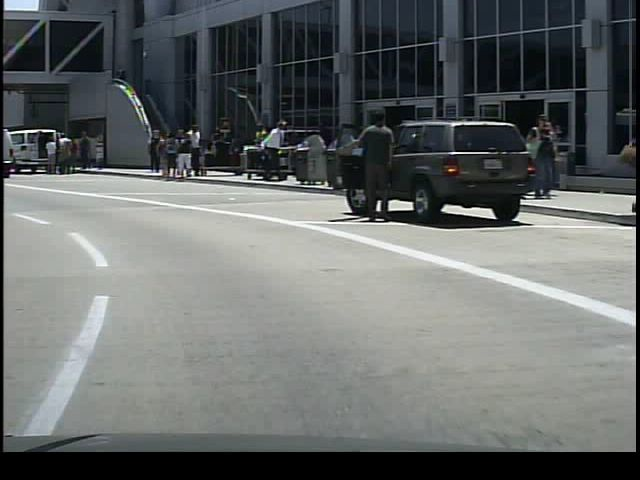person: (349, 110, 396, 227), (522, 108, 560, 208), (256, 115, 285, 184), (172, 130, 193, 180), (73, 129, 95, 176), (186, 123, 203, 180), (143, 127, 164, 173), (56, 131, 72, 178), (42, 136, 60, 177)
